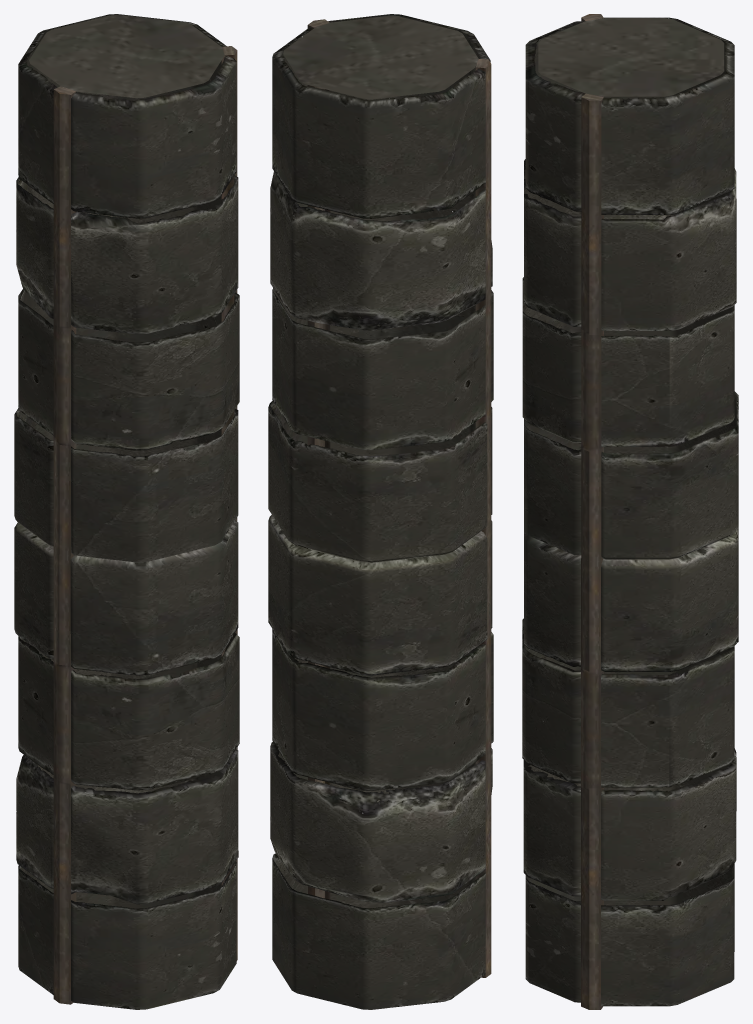
3 views of the same model, side by side, from view 1: azimuth 30°, elevation 25°; view 2: azimuth 150°, elevation 25°; view 3: azimuth 270°, elevation 25° (orthographic).
Visible parts, largest first — view 1: SM_BB_T3_Extended_Beam_Thin_Med_Vertical_02_LOD0; view 2: SM_BB_T3_Extended_Beam_Thin_Med_Vertical_02_LOD0; view 3: SM_BB_T3_Extended_Beam_Thin_Med_Vertical_02_LOD0.
Part boxes in pixels (<box>): SM_BB_T3_Extended_Beam_Thin_Med_Vertical_02_LOD0: <box>14,14,239,1009</box>; SM_BB_T3_Extended_Beam_Thin_Med_Vertical_02_LOD0: <box>268,14,493,1009</box>; SM_BB_T3_Extended_Beam_Thin_Med_Vertical_02_LOD0: <box>522,14,738,1009</box>.
Size of the model in its own units: 0.3182 by 1.5 by 0.3225.
2 materials, 2 textured.
